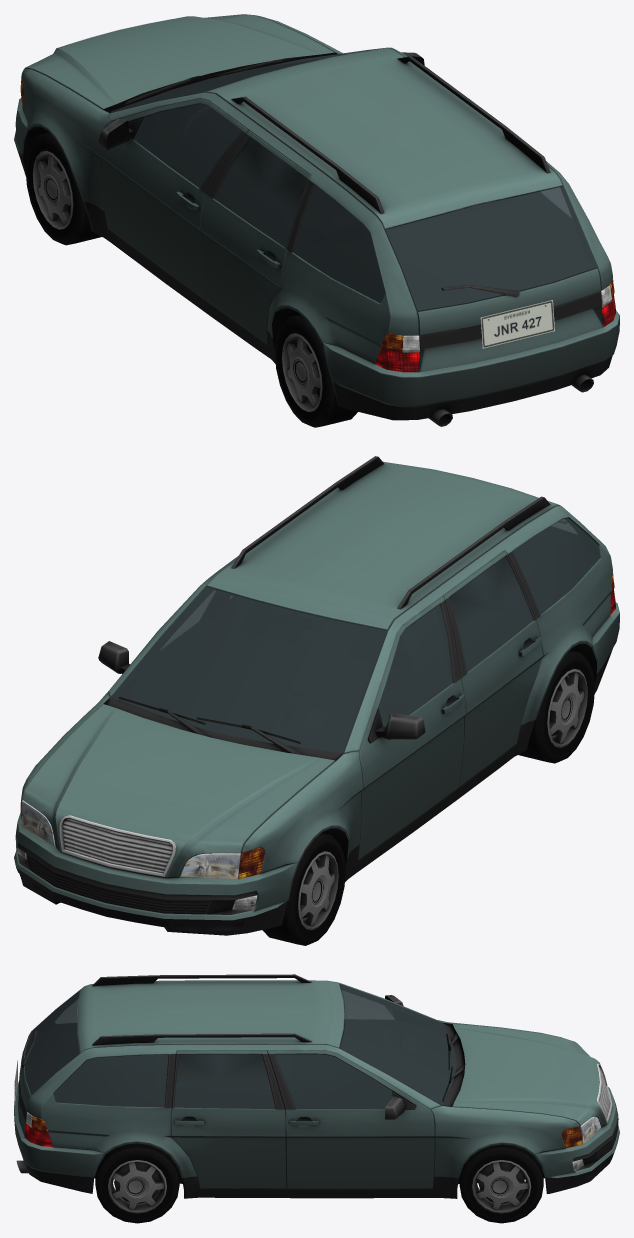
The model's file is wagon.glb.
The picture shows the model from 3 angles, top to bottom: view 1: azimuth 30°, elevation 25°; view 2: azimuth 150°, elevation 25°; view 3: azimuth 270°, elevation 25°; orthographic projection. The views are drawn at different scales.
Parts seen in each view (by area): view 1: body, wheel_rl, wheel_fl, Registration; view 2: body, wheel_fl, wheel_rl; view 3: body, wheel_rr, wheel_fr.
Boxes of the visible parts, x1,y1,x2,y2 form: body: [14, 14, 619, 426]; wheel_rl: [274, 314, 357, 427]; wheel_fl: [25, 132, 101, 245]; Registration: [480, 300, 554, 348]; body: [14, 456, 619, 935]; wheel_fl: [262, 833, 345, 945]; wheel_rl: [518, 650, 594, 763]; body: [14, 974, 619, 1198]; wheel_rr: [95, 1143, 179, 1223]; wheel_fr: [459, 1144, 543, 1223].
Bounding box in the file's own units: 1.91 × 1.35 × 4.29.
Materials: 6 (5 with a texture image).
